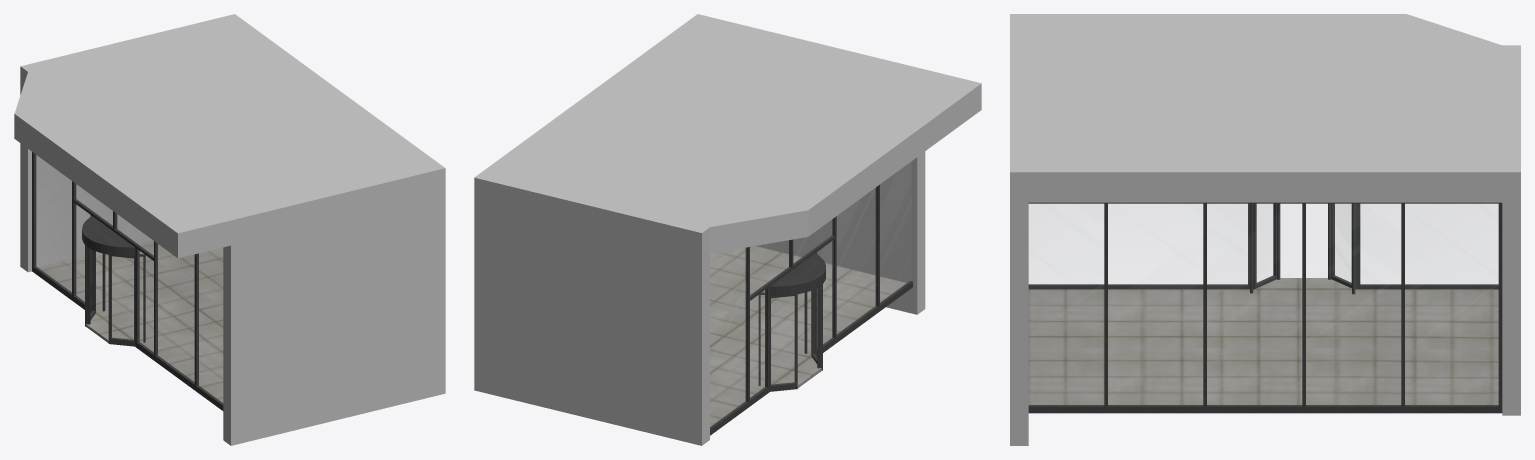
Rendered from sm_guard_office_001.FBX.
3 views of the same model, side by side, from view 1: azimuth 30°, elevation 25°; view 2: azimuth 150°, elevation 25°; view 3: azimuth 270°, elevation 25° (orthographic). The views are drawn at different scales.
Visible parts, largest first — view 1: sm_guard_office_001; view 2: sm_guard_office_001; view 3: sm_guard_office_001.
Part boxes in pixels (left/top/right/bottom): sm_guard_office_001: left=14, top=14, right=445, bottom=445; sm_guard_office_001: left=474, top=14, right=981, bottom=445; sm_guard_office_001: left=1010, top=14, right=1520, bottom=445.
Bounding box in the file's own units: 805 × 649 × 1098.
